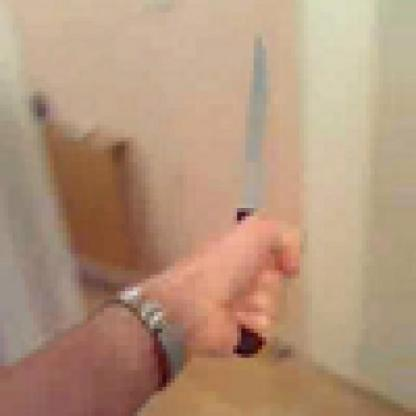Knife: (208, 29, 312, 370)
